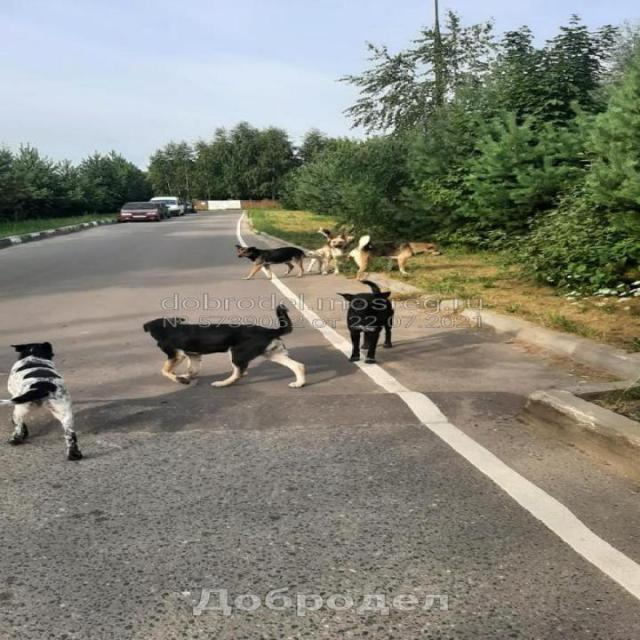car: (120, 198, 170, 226), (149, 194, 184, 213)
dog: (145, 310, 309, 399), (0, 337, 83, 461), (336, 284, 398, 364), (351, 235, 437, 274), (232, 239, 302, 279), (310, 229, 347, 278)
